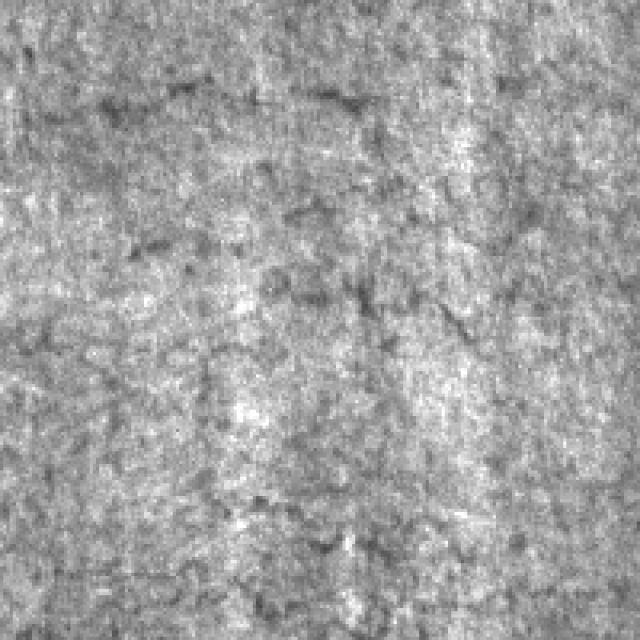crazing: (93, 44, 611, 346), (51, 444, 640, 634)
